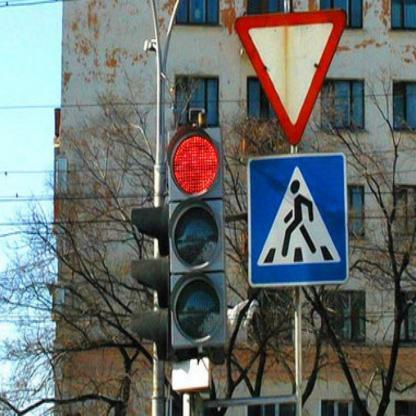off traffic light: (130, 206, 169, 361)
road_sign: (234, 10, 345, 145), (248, 152, 348, 287)
traffic light: (170, 128, 226, 347)
